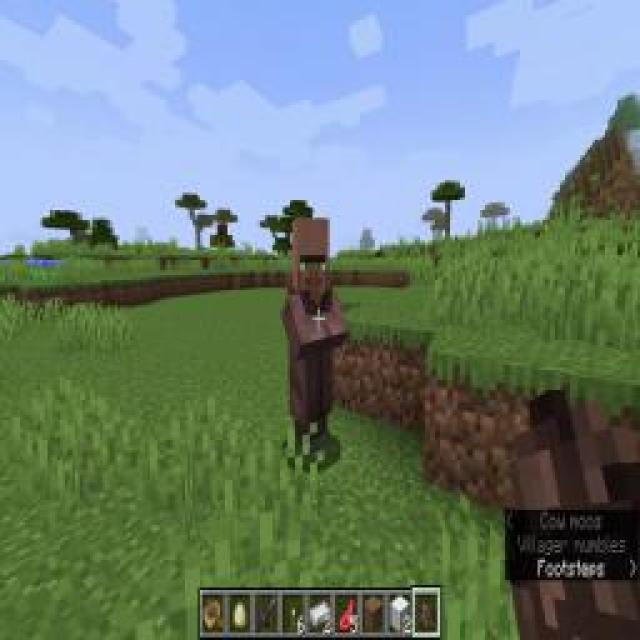Villager House: (278, 212, 350, 458)
